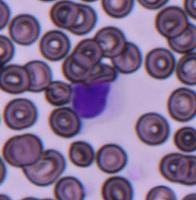L: (69, 80, 124, 120)
